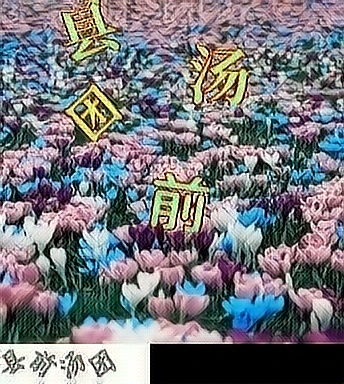C7B0: (145, 170, 210, 236)
CCC0: (187, 42, 252, 108)
CDC5: (60, 80, 125, 146)
CFD8: (57, 6, 122, 72)
